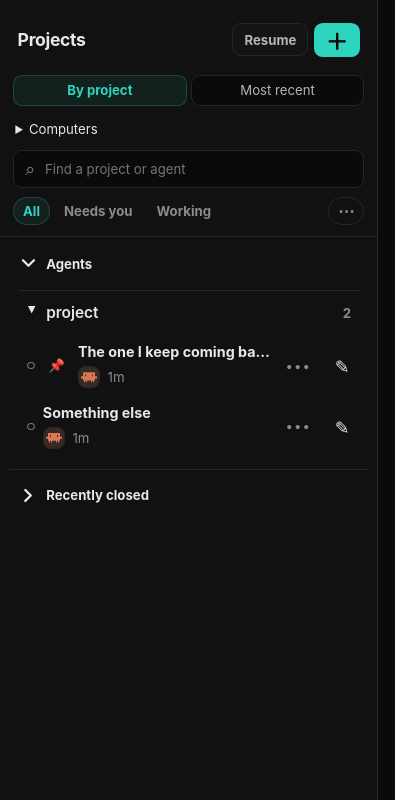
Test case: capability: pin and unpin from the row › unpins the same way it pinned
Click the button named "Actions for The one I keep coming back to" at (298,366), box [282, 349, 315, 382]
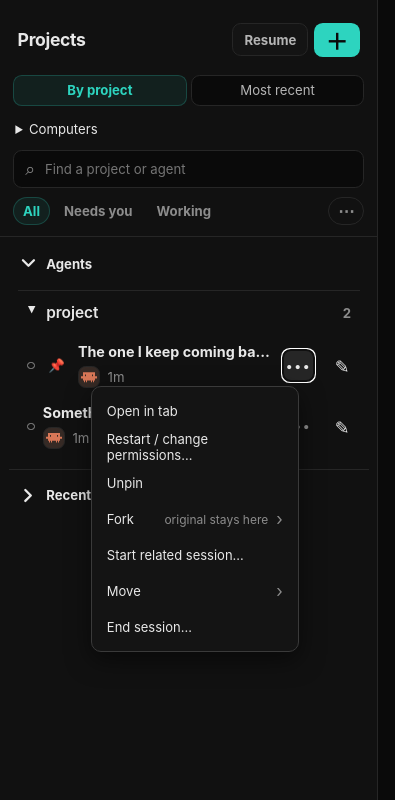
Click the menu item "Unpin" at (195,483), box [98, 465, 292, 501]
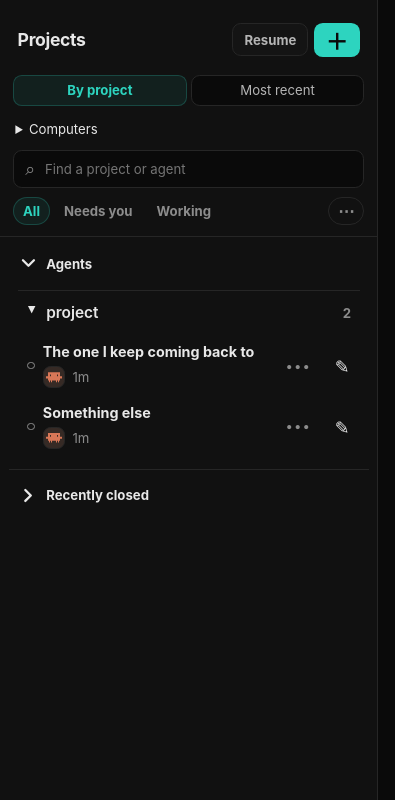
Expected: the text labelled "Pinned" is gone
